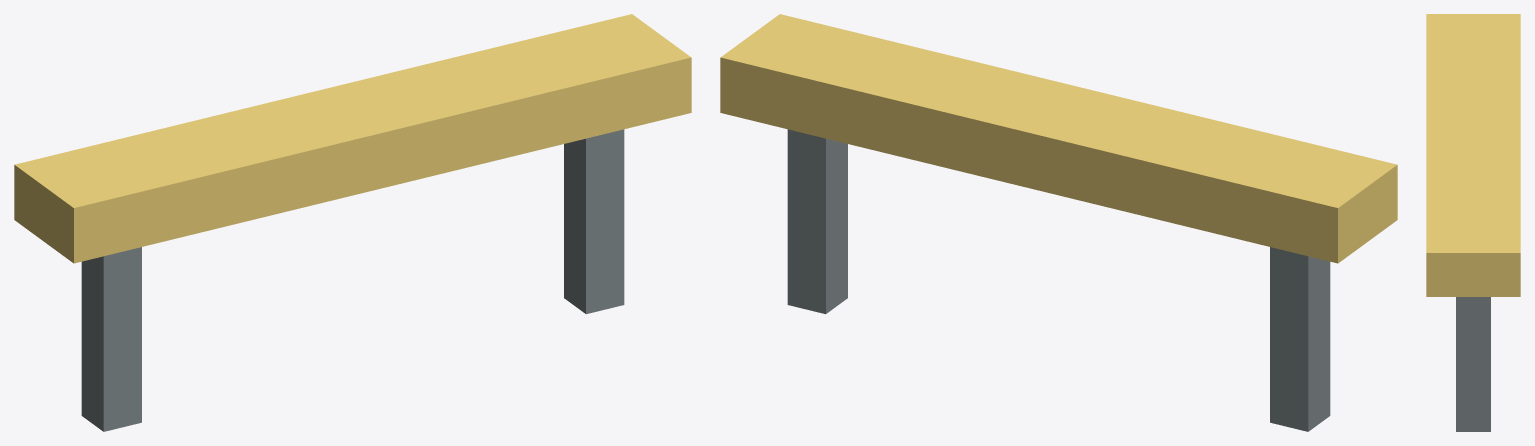
File: PRP_STREET_005_road_barrier.glb
3 renders of one model, left to right at view 1: azimuth 30°, elevation 25°; view 2: azimuth 150°, elevation 25°; view 3: azimuth 270°, elevation 25°, orthographic. The views are drawn at different scales.
Parts seen in each view (by area): view 1: Part_04, Part_01, Part_07, Part_13, Part_08, Part_14, Part_02; view 2: Part_04, Part_00, Part_06, Part_12, Part_08, Part_14, Part_02; view 3: Part_04, Part_15, Part_03.
Part boxes in pixels (x1,y1,x2,y2): Part_04: (15,14,691,207); Part_01: (74,57,691,263); Part_07: (103,247,141,431); Part_13: (586,129,624,314); Part_08: (81,256,103,431); Part_14: (564,138,585,313); Part_02: (14,165,73,263); Part_04: (720,14,1396,207); Part_00: (720,57,1337,263); Part_06: (1270,247,1308,431); Part_12: (787,129,825,314); Part_08: (1308,256,1330,431); Part_14: (826,138,847,313); Part_02: (1338,165,1397,263); Part_04: (1426,14,1520,252); Part_15: (1456,297,1490,431); Part_03: (1426,253,1520,296).
Size of the model in its own units: 2.1 by 0.81 by 0.35.
